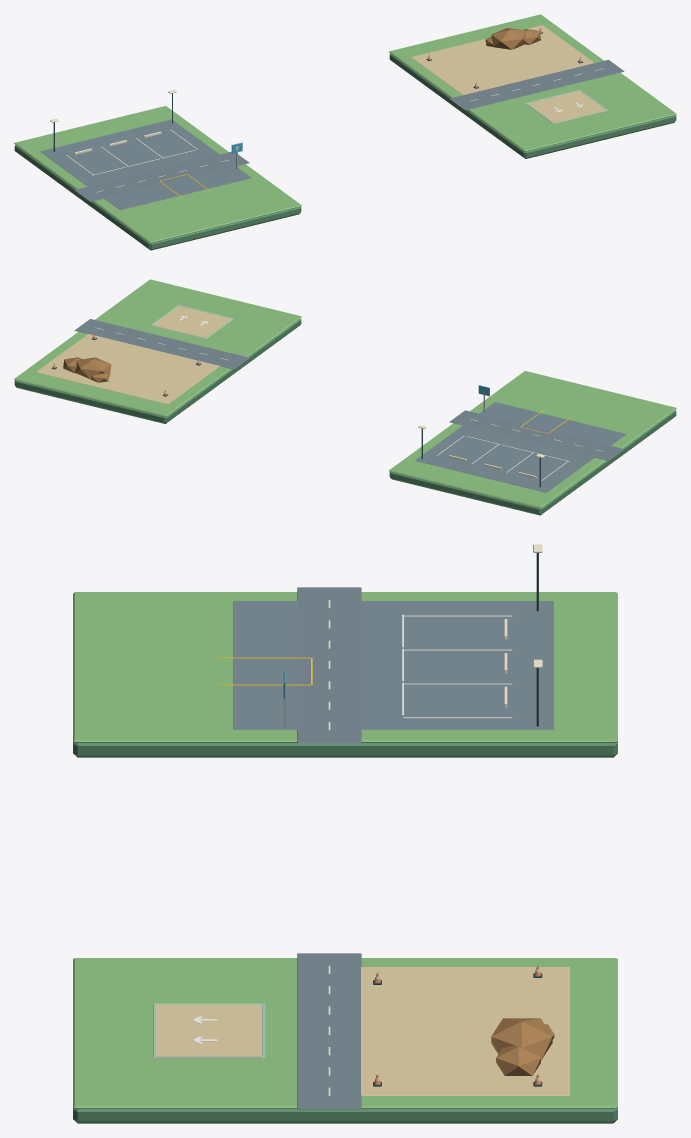
Rendered from expansion.glb.
3 views of the same model, one above another, from view 1: azimuth 30°, elevation 25°; view 2: azimuth 150°, elevation 25°; view 3: azimuth 270°, elevation 25° (orthographic). The views are drawn at different scales.
Parts seen in each view (by area): view 1: ExpansionGround, UnloadPad; view 2: ExpansionGround, UnloadPad; view 3: ExpansionGround, UnloadPad.
Part boxes in pixels (box(x1,y1,x2,y2)): ExpansionGround: box(14, 14, 676, 250); UnloadPad: box(525, 89, 608, 123); ExpansionGround: box(14, 279, 676, 515); UnloadPad: box(150, 304, 233, 339); ExpansionGround: box(73, 544, 617, 1123); UnloadPad: box(153, 1003, 265, 1058).
Bounding box in the file's own units: 77 × 5.77 × 34.
